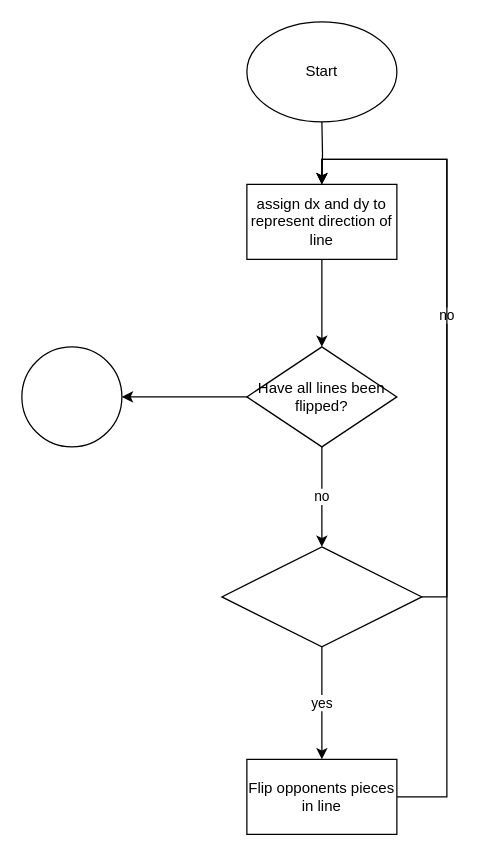
The diagram is 479 pixels wide and 856 high, and some of its shapes have lost their labels. The centre of each missing label's shape, as x and y in pixels:
Can a valid line be drawn to the next token of the same colour?: point 321,596
return updated board: point 71,396
